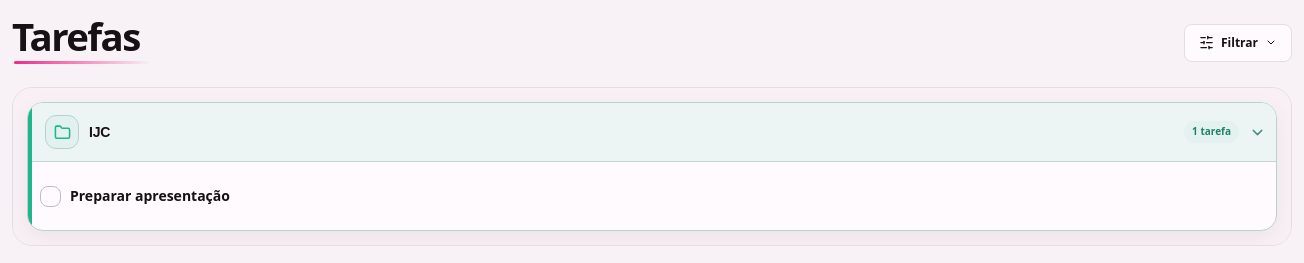
it: grupos de categorias › abre e fecha uma categoria ao clicar no respetivo título
This screenshot has width=1304, height=263.
What coordinates should you click on to do the following:
click the button "IJC 1 tarefa"
I would click on:
 (62, 132)
Its box is [28,103,1276,161].
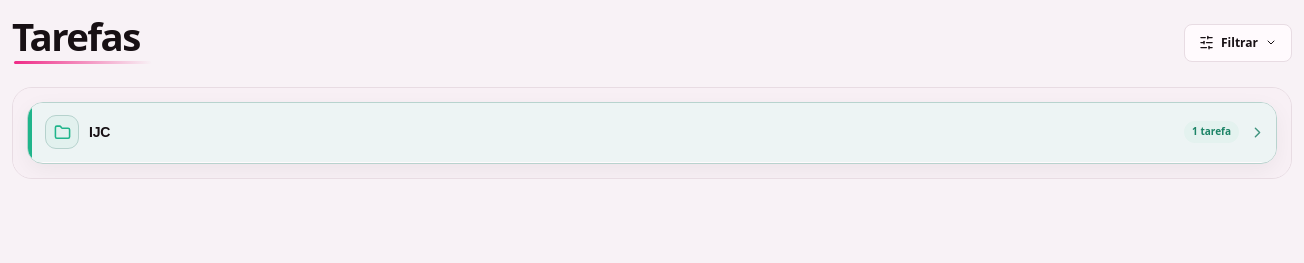
expect the button "IJC 1 tarefa" is collapsed: met, box [28,103,1276,161]
